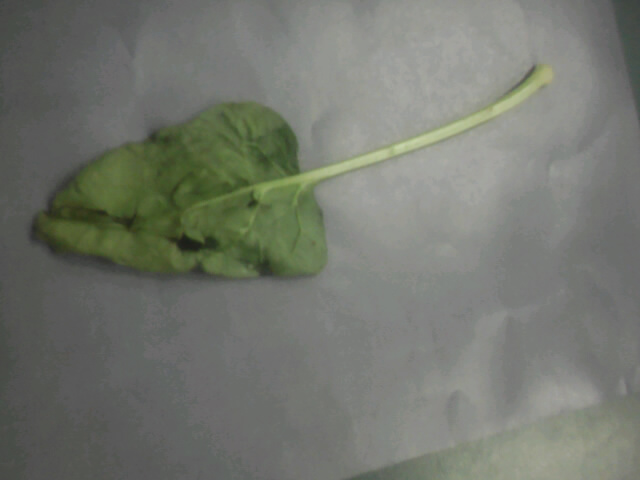yellow: (23, 62, 525, 298)
